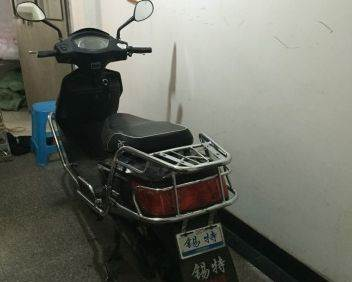电动车: (12, 1, 248, 278)
